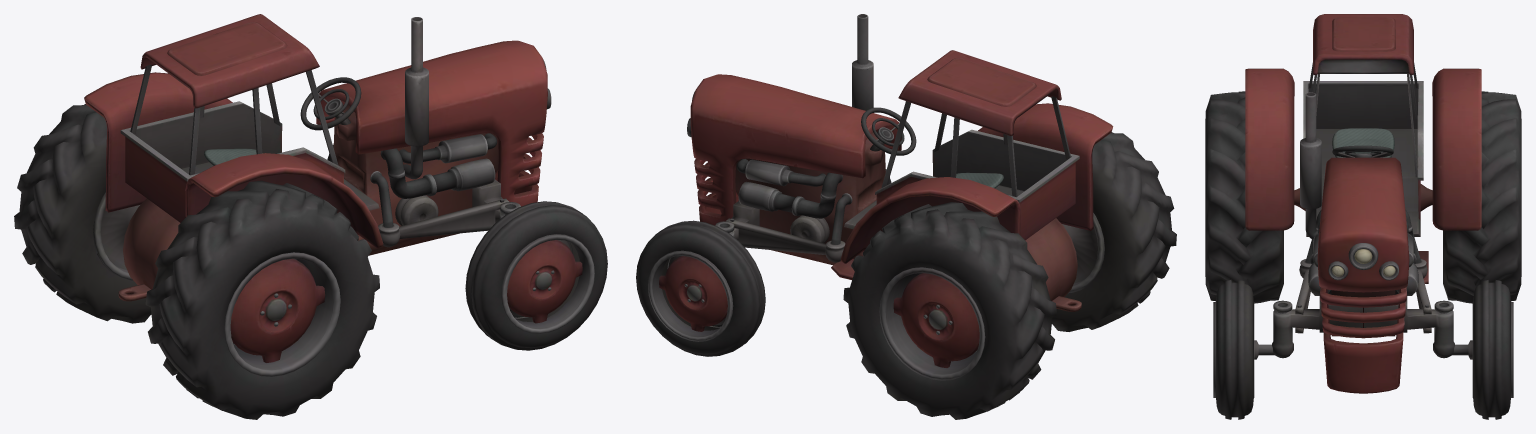
Rendered from tractor.glb.
3 views of the same model, side by side, from view 1: azimuth 30°, elevation 25°; view 2: azimuth 150°, elevation 25°; view 3: azimuth 270°, elevation 25° (orthographic). The views are drawn at different scales.
Parts seen in each view (by area): view 1: backTire, hull, frontTire, tireFlap, sitBox, tubeStuff, roof, midBit, pipe, roofbeams, wheel, seat; view 2: backTire, hull, frontTire, tireFlap, sitBox, tubeStuff, roof, midBit, roofbeams, pipe, wheel; view 3: backTire, hull, tireFlap, frontTire, sitBox, tubeStuff, roof, pipe, seat, midBit, roofbeams, wheel.
Part boxes in pixels (bbox=[...]): backTire: bbox=[14, 104, 379, 419]; hull: bbox=[316, 40, 551, 206]; frontTire: bbox=[327, 155, 607, 350]; tireFlap: bbox=[84, 72, 383, 248]; sitBox: bbox=[120, 101, 379, 222]; tubeStuff: bbox=[328, 133, 520, 247]; roof: bbox=[140, 14, 319, 108]; midBit: bbox=[118, 104, 498, 301]; pipe: bbox=[403, 17, 428, 179]; roofbeams: bbox=[130, 64, 338, 175]; wheel: bbox=[300, 77, 361, 130]; seat: bbox=[204, 148, 262, 165]; backTire: bbox=[843, 132, 1176, 419]; hull: bbox=[687, 74, 901, 225]; frontTire: bbox=[636, 179, 891, 356]; tireFlap: bbox=[840, 103, 1113, 263]; sitBox: bbox=[844, 129, 1079, 240]; tubeStuff: bbox=[715, 159, 890, 262]; roof: bbox=[898, 50, 1061, 135]; midBit: bbox=[735, 132, 1081, 311]; roofbeams: bbox=[881, 96, 1070, 196]; pipe: bbox=[852, 14, 873, 110]; wheel: bbox=[861, 107, 916, 155]; backTire: bbox=[1205, 91, 1521, 303]; hull: bbox=[1317, 157, 1409, 393]; tireFlap: bbox=[1245, 68, 1481, 230]; frontTire: bbox=[1213, 280, 1513, 419]; sitBox: bbox=[1303, 81, 1423, 236]; tubeStuff: bbox=[1272, 210, 1454, 358]; roof: bbox=[1313, 14, 1413, 74]; pipe: bbox=[1300, 92, 1321, 239]; seat: bbox=[1332, 128, 1394, 157]; midBit: bbox=[1294, 184, 1432, 336]; roofbeams: bbox=[1309, 63, 1417, 177]; wheel: bbox=[1332, 145, 1393, 157].
Size of the model in its own units: 535 by 363 by 364.
9 materials, 9 textured.
